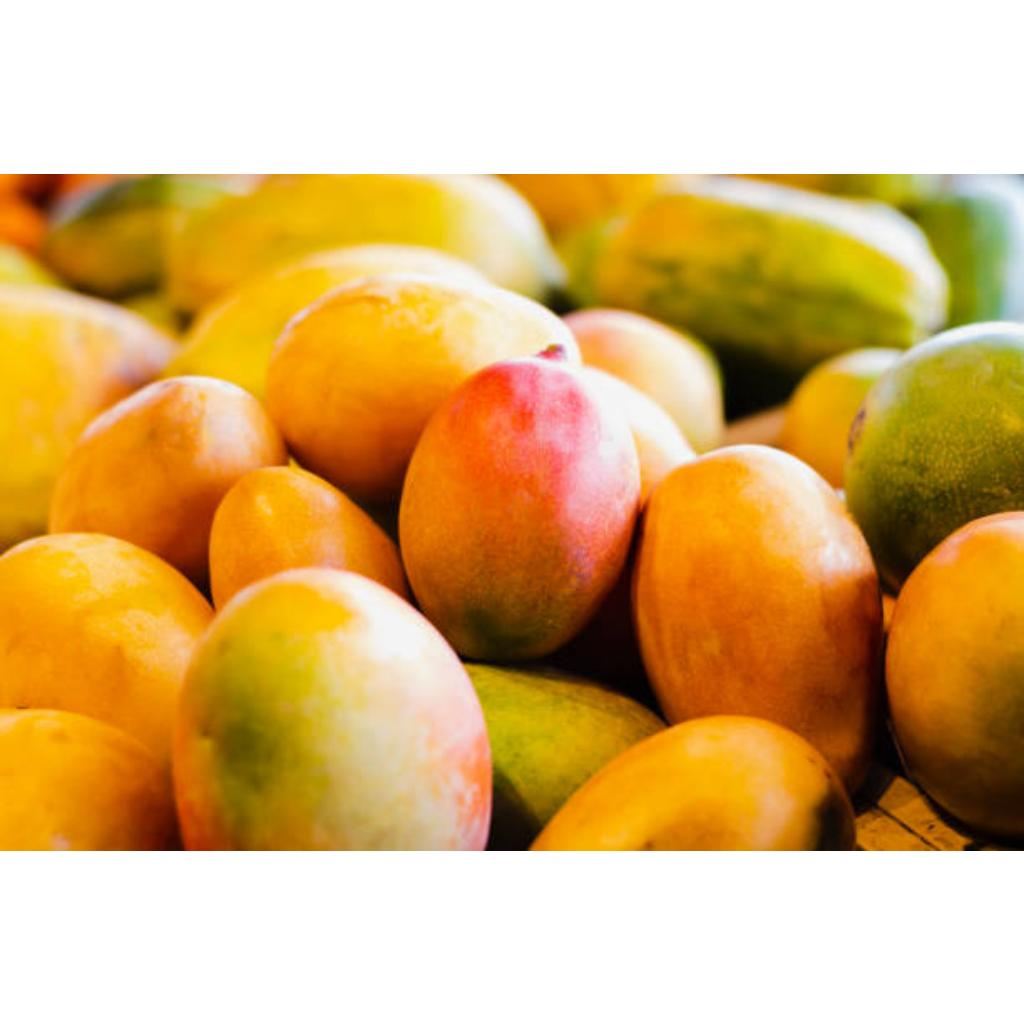mango: (174, 569, 492, 849), (634, 445, 882, 788), (400, 343, 640, 661), (270, 273, 580, 500), (592, 177, 946, 369), (48, 375, 288, 589), (0, 533, 214, 760), (844, 323, 1024, 584), (886, 511, 1024, 836), (532, 715, 852, 851), (208, 465, 408, 608), (0, 710, 178, 851), (564, 307, 724, 452)
